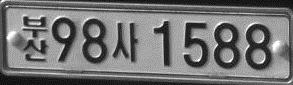1: (150, 20, 175, 66)
5: (183, 22, 209, 67)
8: (245, 22, 272, 70), (213, 22, 240, 69), (81, 17, 108, 63)
9: (50, 16, 76, 62)
부산_V: (22, 15, 48, 61)
사: (112, 21, 138, 62)
